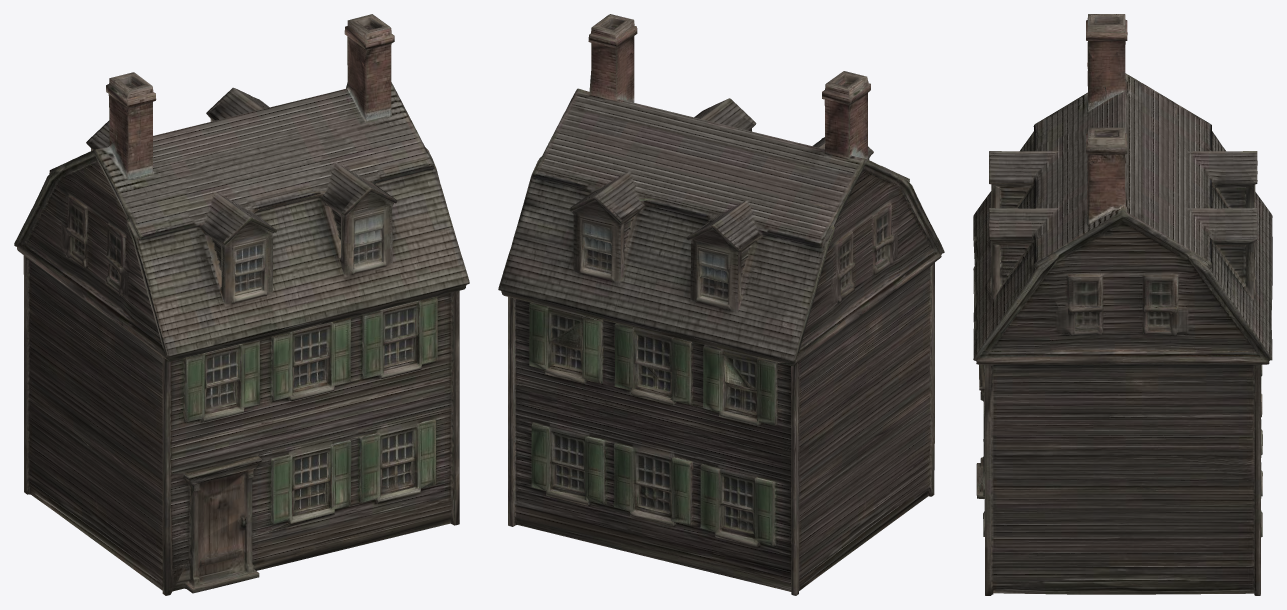
File: bldg-row-clapboard-b.glb
3 renders of one model, left to right at view 1: azimuth 30°, elevation 25°; view 2: azimuth 150°, elevation 25°; view 3: azimuth 270°, elevation 25°, orthographic. The views are drawn at different scales.
Parts seen in each view (by area): view 1: Mesh_0; view 2: Mesh_0; view 3: Mesh_0.
Boxes of the visible parts, x1,y1,x2,y2 form: Mesh_0: (14,14,469,595); Mesh_0: (498,14,944,595); Mesh_0: (973,14,1272,595).
Size of the model in its own units: 1.3 by 1.9 by 1.14.
1 material, 1 textured.
